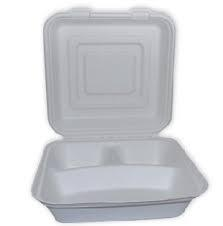Liquid: (23, 9, 212, 226)
